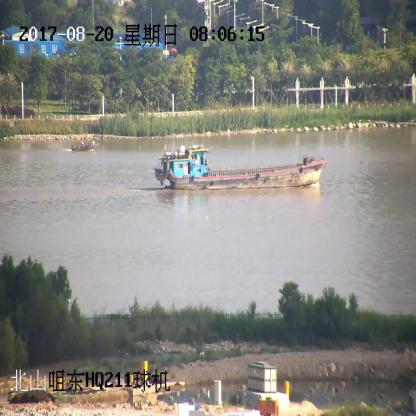Fishing Boat: (156, 146, 325, 191), (71, 141, 96, 152)
